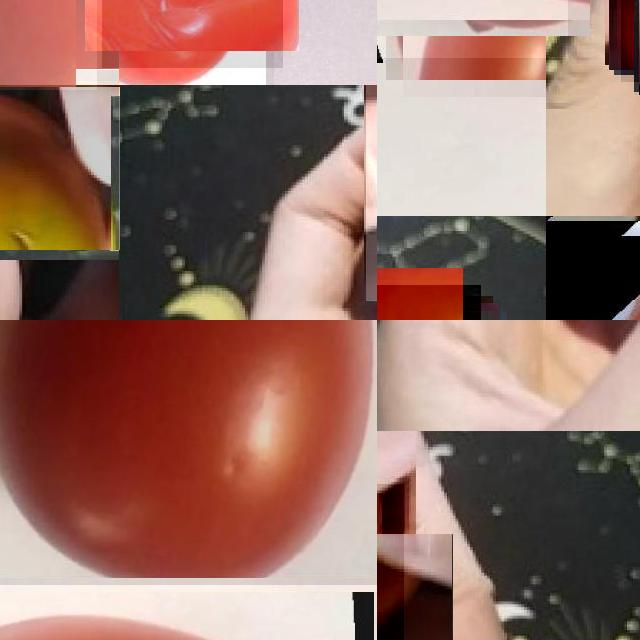Fresh Tomato: (0, 320, 377, 585), (0, 592, 374, 640), (377, 0, 568, 58)
Rotten Tomato: (0, 85, 119, 250), (102, 0, 282, 68)
